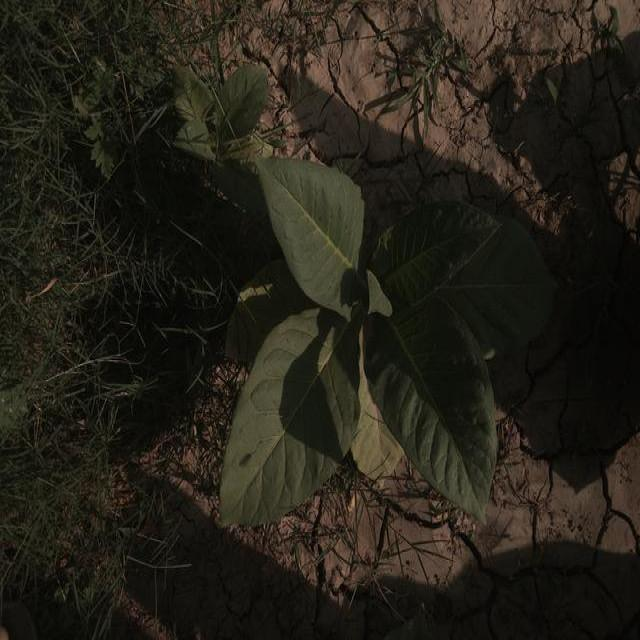crop: (212, 138, 509, 538)
